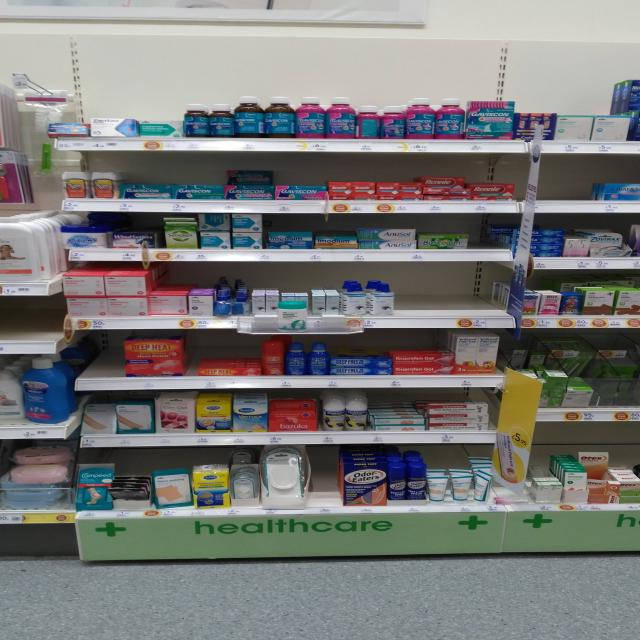empty: (393, 267, 499, 319), (514, 166, 609, 206), (68, 329, 132, 388), (1, 295, 65, 347), (310, 441, 339, 514), (464, 221, 513, 262)
